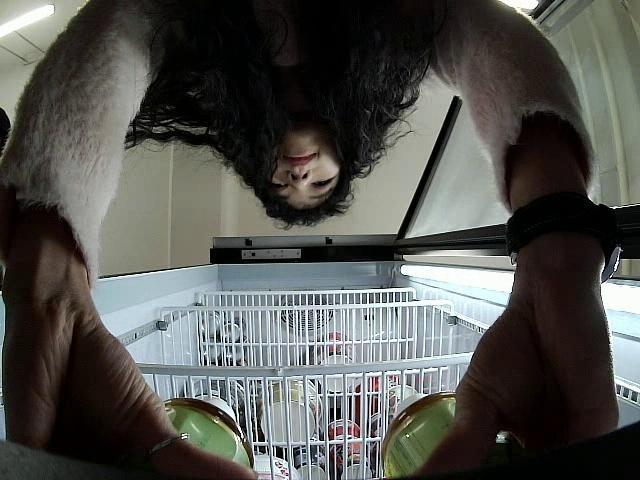19_17cha: (160, 394, 254, 470), (380, 392, 459, 477)
